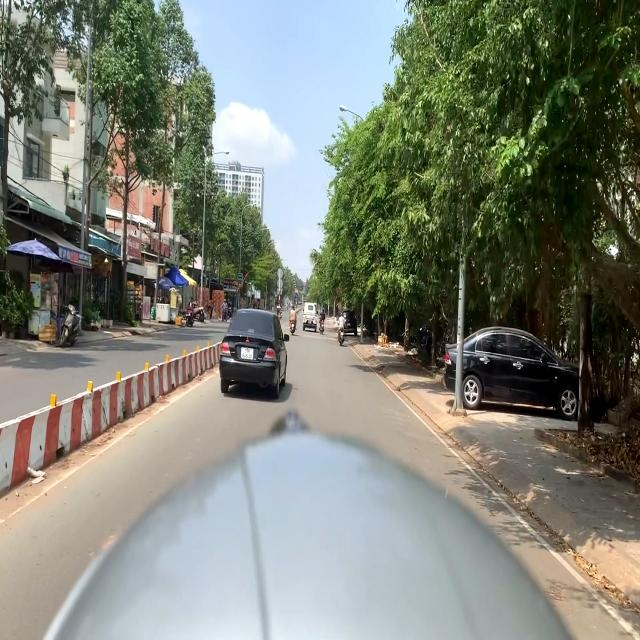bien_hieu_lenh: (295, 293, 298, 298), (295, 289, 298, 293)
